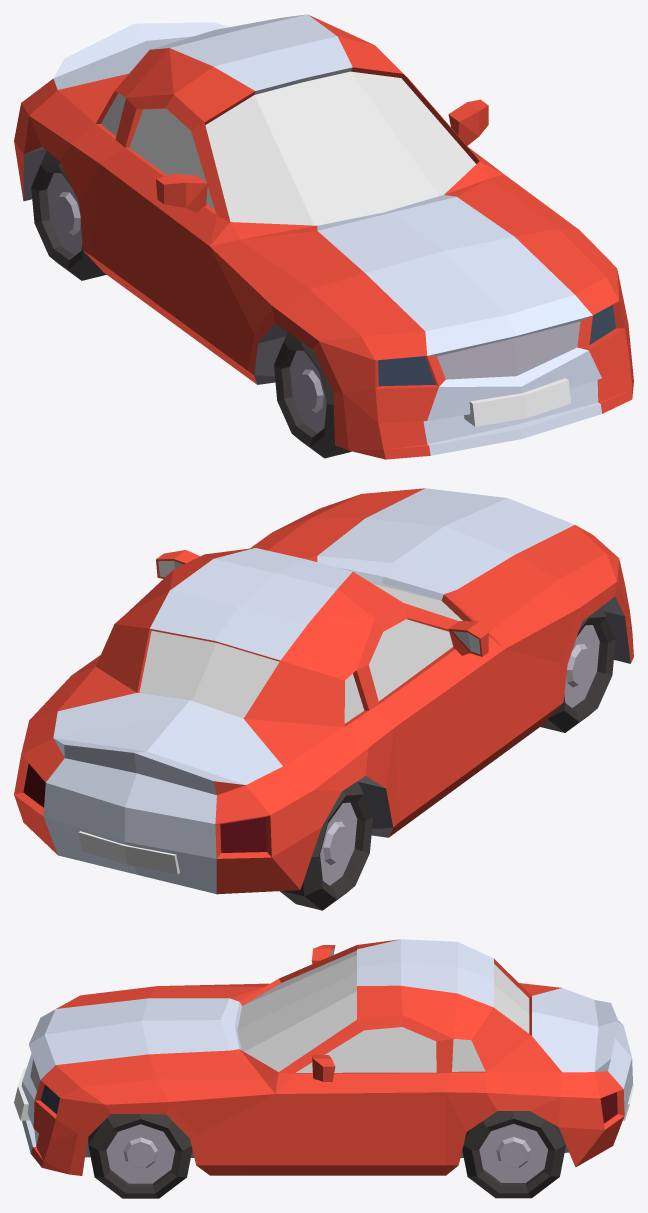
Rendered from SportsCar_01.fbx.
3 views of the same model, one above another, from view 1: azimuth 30°, elevation 25°; view 2: azimuth 150°, elevation 25°; view 3: azimuth 270°, elevation 25° (orthographic). The views are drawn at different scales.
Visible parts, largest first — view 1: Body, Windows, Wheels, Body_Details, Lights; view 2: Body, Windows, Wheels, Body_Details, Lights; view 3: Body, Windows, Wheels, Body_Details, Lights.
Boxes of the visible parts, bbox=[...] form: Body: bbox=[14, 14, 633, 459]; Windows: bbox=[101, 71, 476, 225]; Wheels: bbox=[31, 151, 351, 458]; Body_Details: bbox=[23, 147, 580, 426]; Lights: bbox=[378, 304, 615, 386]; Body: bbox=[14, 488, 633, 894]; Windows: bbox=[139, 560, 480, 723]; Wheels: bbox=[279, 607, 615, 910]; Body_Details: bbox=[78, 596, 630, 874]; Lights: bbox=[23, 763, 266, 852]; Body: bbox=[21, 939, 632, 1175]; Windows: bbox=[237, 947, 529, 1072]; Wheels: bbox=[88, 1111, 565, 1198]; Body_Details: bbox=[14, 1059, 633, 1158]; Lights: bbox=[40, 1084, 617, 1123].
Size of the model in its own units: 2.13 by 1.52 by 4.58.
